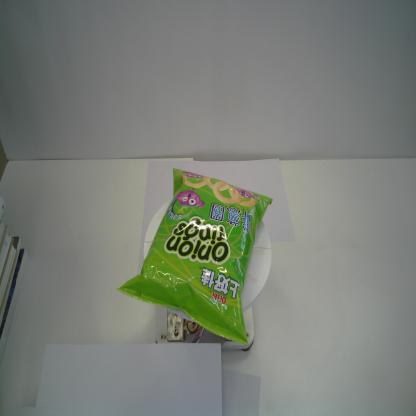Puffed Food: (116, 168, 273, 346)
